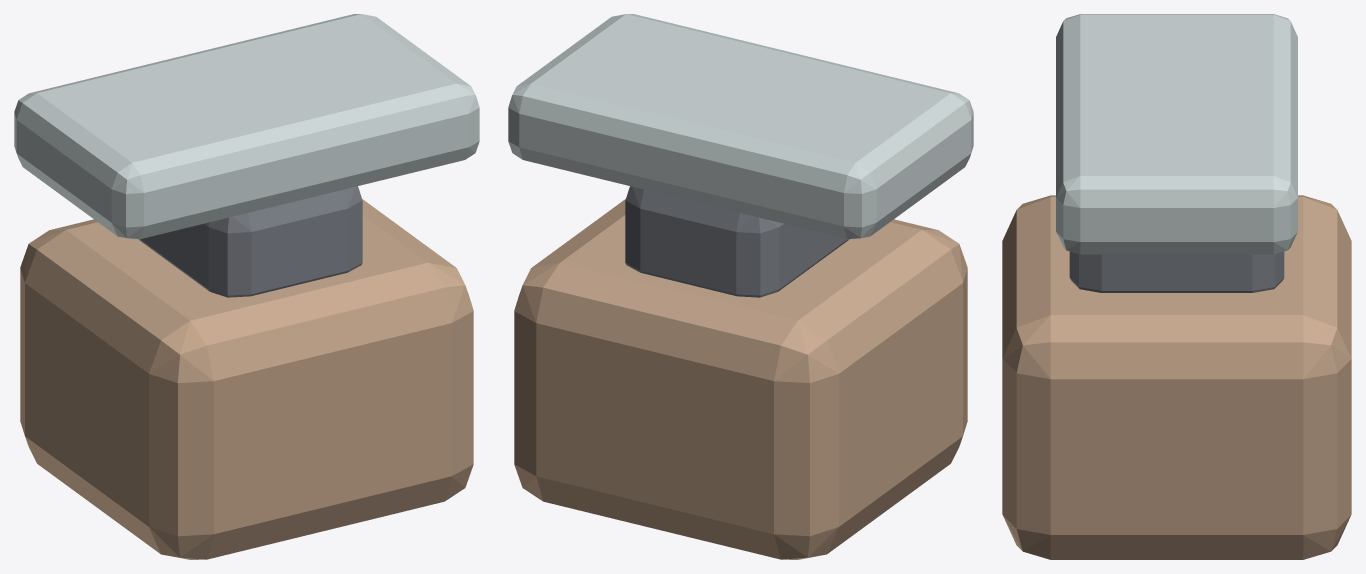
The model's file is anvil.glb.
The picture shows the model from 3 angles, left to right: view 1: azimuth 30°, elevation 25°; view 2: azimuth 150°, elevation 25°; view 3: azimuth 270°, elevation 25°; orthographic projection.
Visible parts, largest first — view 1: Sculpt__Honey oak, Sculpt__Forged iron, Sculpt__Leather and sockets; view 2: Sculpt__Honey oak, Sculpt__Forged iron, Sculpt__Leather and sockets; view 3: Sculpt__Honey oak, Sculpt__Forged iron, Sculpt__Leather and sockets.
Boxes of the visible parts, bbox=[...] form: Sculpt__Honey oak: bbox=[20, 199, 473, 559]; Sculpt__Forged iron: bbox=[14, 14, 479, 239]; Sculpt__Leather and sockets: bbox=[138, 186, 362, 297]; Sculpt__Honey oak: bbox=[514, 199, 967, 559]; Sculpt__Forged iron: bbox=[508, 14, 973, 239]; Sculpt__Leather and sockets: bbox=[625, 186, 849, 297]; Sculpt__Honey oak: bbox=[1002, 195, 1351, 559]; Sculpt__Forged iron: bbox=[1056, 14, 1297, 254]; Sculpt__Leather and sockets: bbox=[1069, 251, 1284, 292].
Size of the model in its own units: 0.8 by 0.83 by 0.65.
